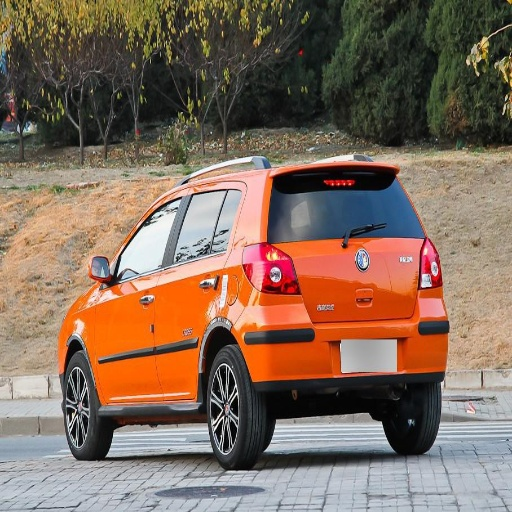back_bumper: (253, 297, 447, 382)
back_glass: (275, 173, 407, 237)
back_left_door: (155, 184, 231, 397)
trunk: (276, 231, 424, 337)
